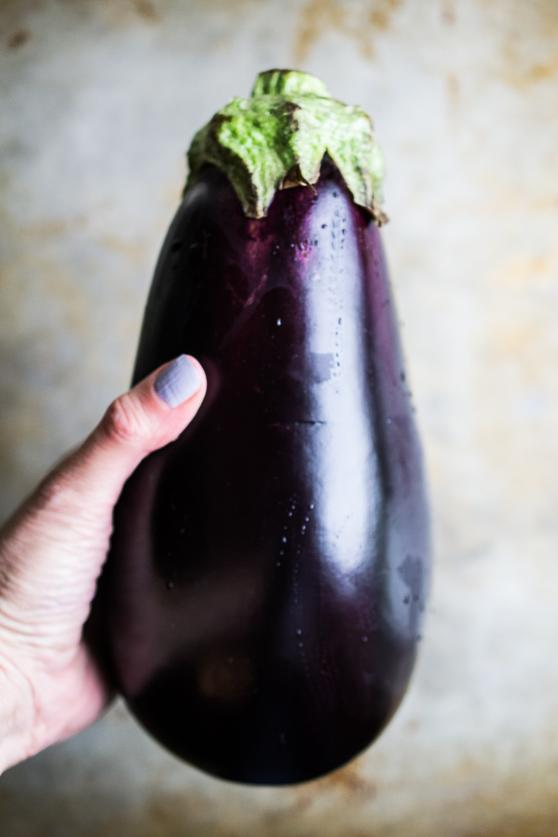eggplant: (95, 70, 435, 792)
